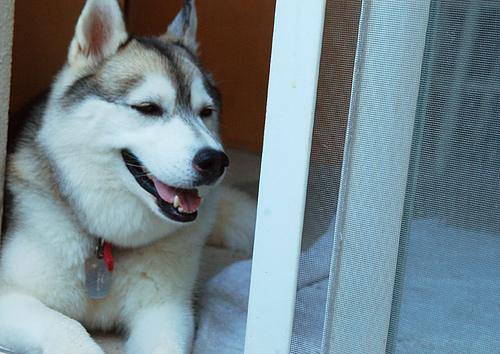dog: (0, 2, 232, 353)
